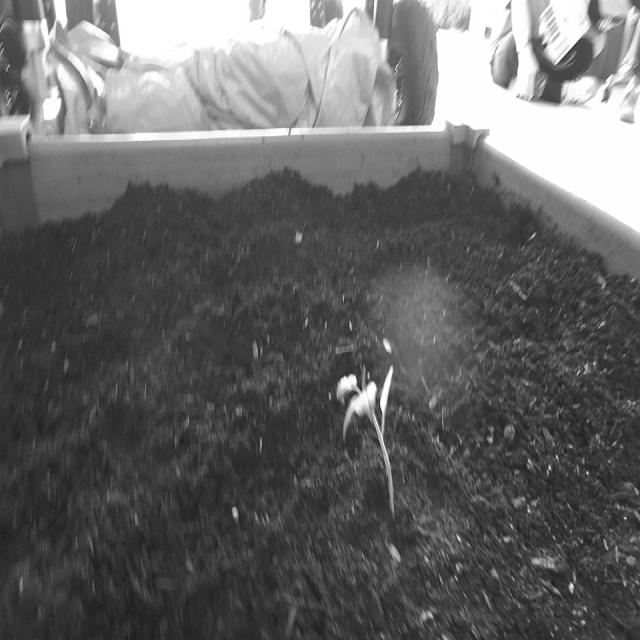Healthy: (328, 352, 419, 528)
